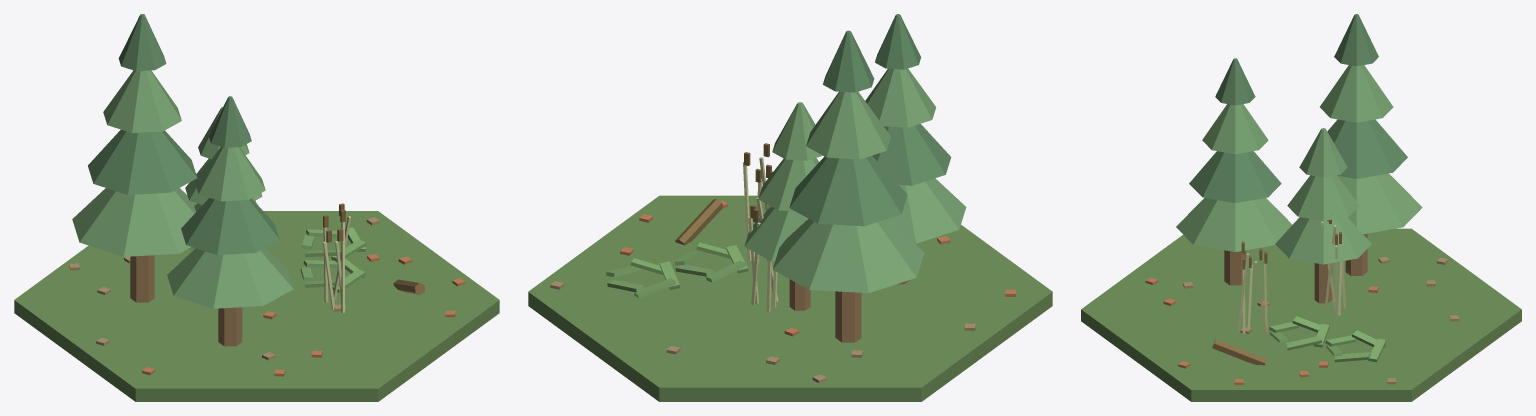
Rendered from forest_to_water.glb.
3 renders of one model, left to right at view 1: azimuth 30°, elevation 25°; view 2: azimuth 150°, elevation 25°; view 3: azimuth 270°, elevation 25°, orthographic. The views are drawn at different scales.
Parts seen in each view (by area): view 1: plate; view 2: plate; view 3: plate.
Part boxes in pixels (box(x1,y1,x2,y2)): plate: box(14, 14, 499, 401); plate: box(528, 14, 1052, 401); plate: box(1081, 14, 1521, 401).
Size of the model in its own units: 1.73 by 1.35 by 2.
